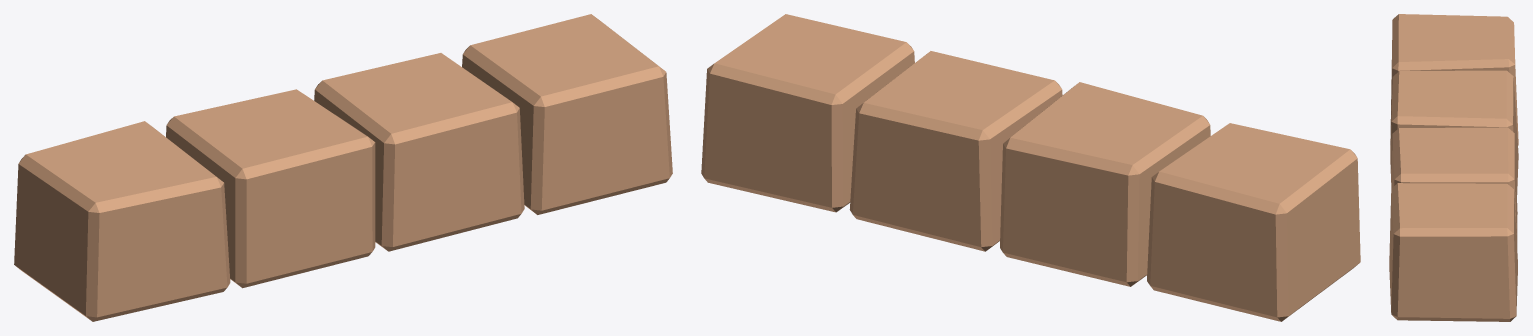
Rendered from wall_mud_brick_foundation.glb.
3 views of the same model, side by side, from view 1: azimuth 30°, elevation 25°; view 2: azimuth 150°, elevation 25°; view 3: azimuth 270°, elevation 25° (orthographic). The views are drawn at different scales.
Visible parts, largest first — view 1: wall_mud_brick_foundation; view 2: wall_mud_brick_foundation; view 3: wall_mud_brick_foundation.
Part boxes in pixels (x1,y1,x2,y2): wall_mud_brick_foundation: (14, 14, 672, 321); wall_mud_brick_foundation: (701, 14, 1360, 321); wall_mud_brick_foundation: (1389, 14, 1518, 321).
Bounding box in the file's own units: 0.9927 × 0.1962 × 0.2452.
